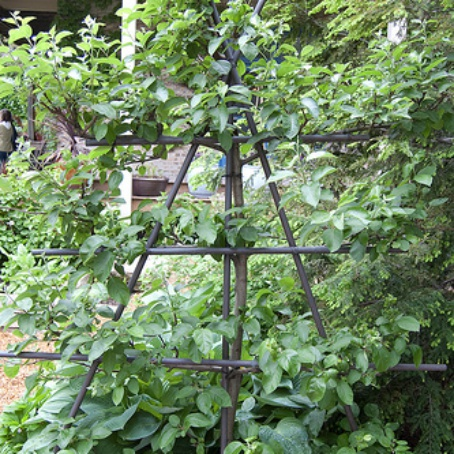vegetation: (1, 2, 454, 454)
